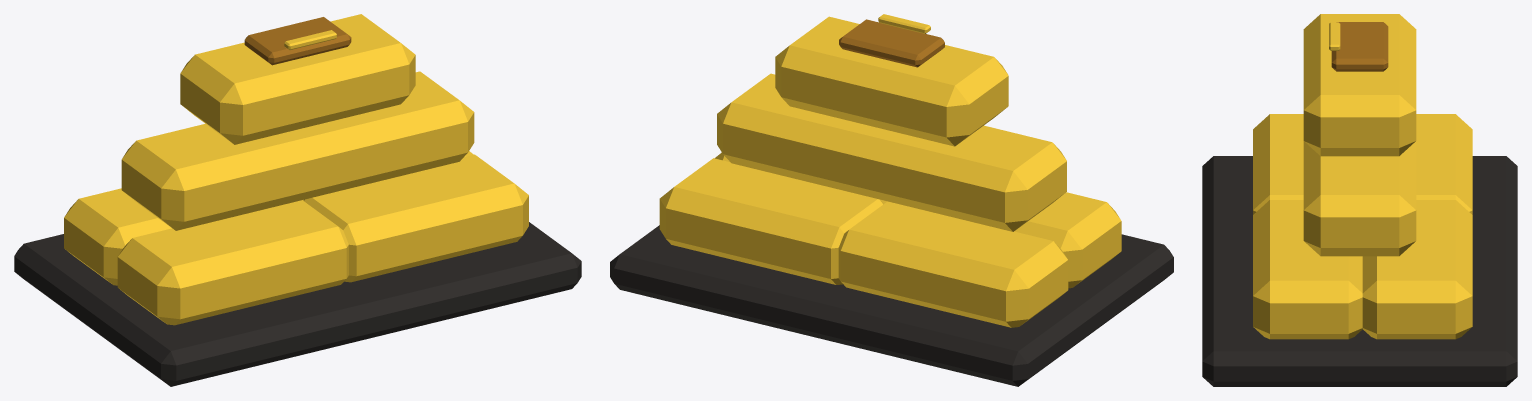
The model's file is gold.glb.
3 renders of one model, left to right at view 1: azimuth 30°, elevation 25°; view 2: azimuth 150°, elevation 25°; view 3: azimuth 270°, elevation 25°, orthographic.
Visible parts, largest first — view 1: gold-black-pallet, gold-bar-0, gold-bar-6, gold-bar-4, gold-bar-1, gold-bar-5, gold-bar-2, gold-hero-stamp, gold-stamp-line; view 2: gold-black-pallet, gold-bar-2, gold-bar-6, gold-bar-3, gold-bar-4, gold-bar-5, gold-bar-0, gold-hero-stamp, gold-stamp-line; view 3: gold-black-pallet, gold-bar-6, gold-bar-3, gold-bar-1, gold-bar-5, gold-bar-2, gold-bar-0, gold-hero-stamp, gold-stamp-line.
Part boxes in pixels (x1=…): gold-black-pallet: x1=14, y1=222, x2=581, y2=386; gold-bar-0: x1=117, y1=200, x2=348, y2=325; gold-bar-6: x1=180, y1=14, x2=415, y2=144; gold-bar-4: x1=121, y1=123, x2=350, y2=230; gold-bar-1: x1=303, y1=154, x2=528, y2=282; gold-bar-5: x1=283, y1=71, x2=474, y2=192; gold-bar-2: x1=64, y1=188, x2=171, y2=285; gold-hero-stamp: x1=244, y1=17, x2=351, y2=65; gold-stamp-line: x1=284, y1=30, x2=336, y2=49; gold-black-pallet: x1=610, y1=225, x2=1173, y2=386; gold-bar-2: x1=838, y1=201, x2=1068, y2=327; gold-bar-6: x1=775, y1=16, x2=1008, y2=146; gold-bar-3: x1=659, y1=158, x2=883, y2=284; gold-bar-4: x1=839, y1=125, x2=1066, y2=231; gold-bar-5: x1=717, y1=73, x2=906, y2=202; gold-bar-0: x1=1014, y1=192, x2=1121, y2=288; gold-hero-stamp: x1=839, y1=19, x2=944, y2=67; gold-stamp-line: x1=878, y1=14, x2=930, y2=33; gold-black-pallet: x1=1202, y1=156, x2=1517, y2=386; gold-bar-6: x1=1303, y1=14, x2=1416, y2=156; gold-bar-3: x1=1362, y1=200, x2=1472, y2=339; gold-bar-1: x1=1253, y1=200, x2=1362, y2=339; gold-bar-5: x1=1303, y1=141, x2=1416, y2=256; gold-bar-2: x1=1416, y1=114, x2=1472, y2=214; gold-bar-0: x1=1253, y1=114, x2=1303, y2=214; gold-hero-stamp: x1=1331, y1=22, x2=1388, y2=71; gold-stamp-line: x1=1329, y1=22, x2=1340, y2=50.
Size of the model in its own units: 1.72 by 1 by 1.12.
